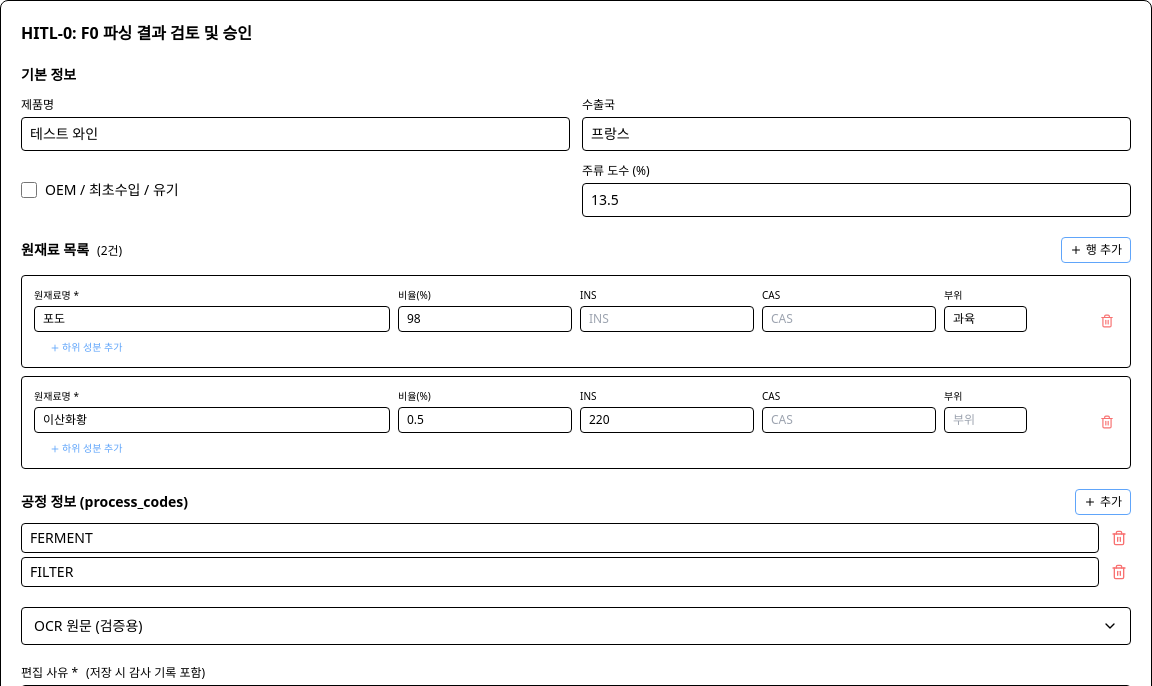
Test: F0ApprovalPanel › OCR 원문 토글: 버튼 클릭 시 원문이 표시된다
Click the button "OCR 원문 (검증용)": {"x": 88, "y": 626} [22,608,1130,644]
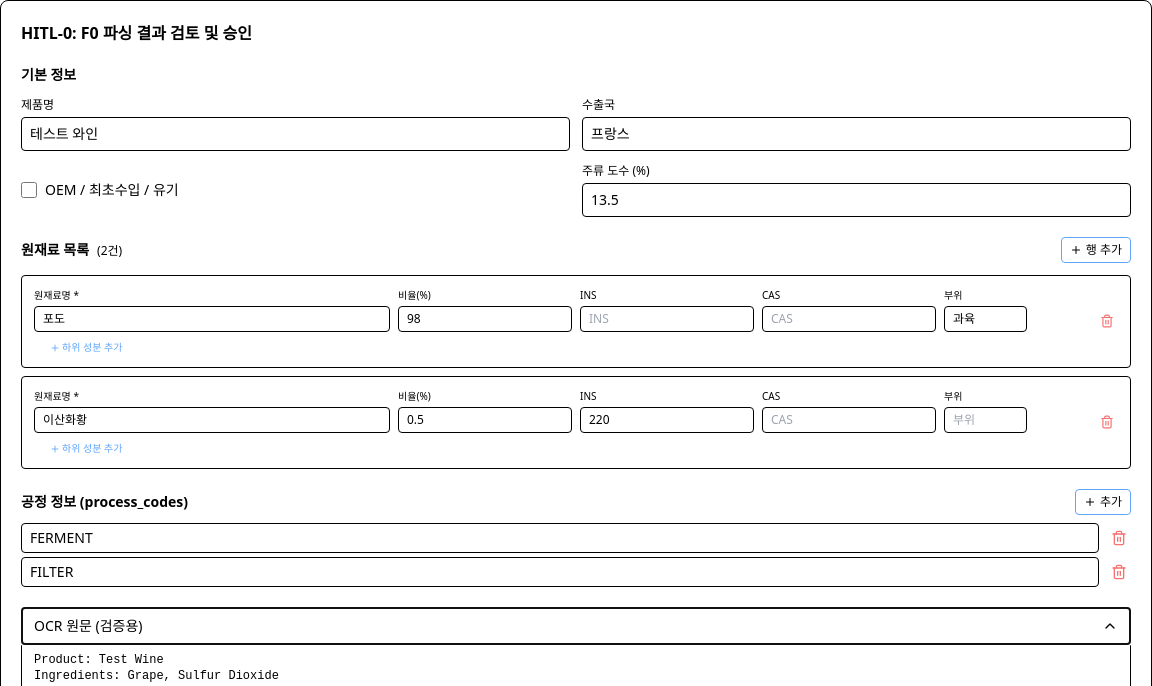
Check: the text "Product: Test Wine Ingredients: Grape, Sulfur Dioxide" is shown, box [34,653,279,683]
